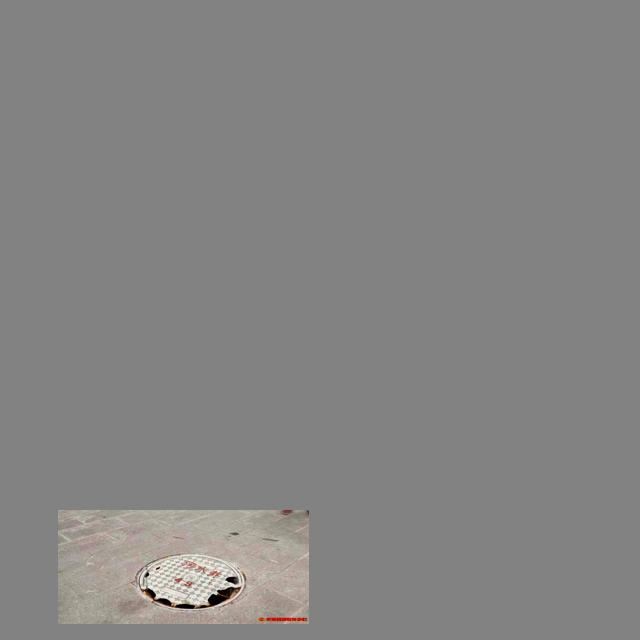broke: (130, 550, 251, 613)
